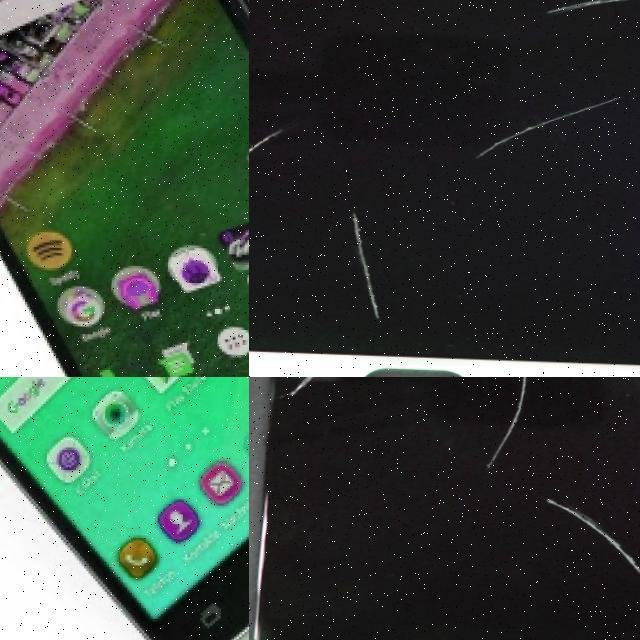scratch: (478, 87, 629, 162), (552, 496, 640, 573), (346, 208, 394, 316), (492, 377, 543, 467), (249, 122, 290, 191), (282, 377, 374, 403), (544, 0, 640, 9)
